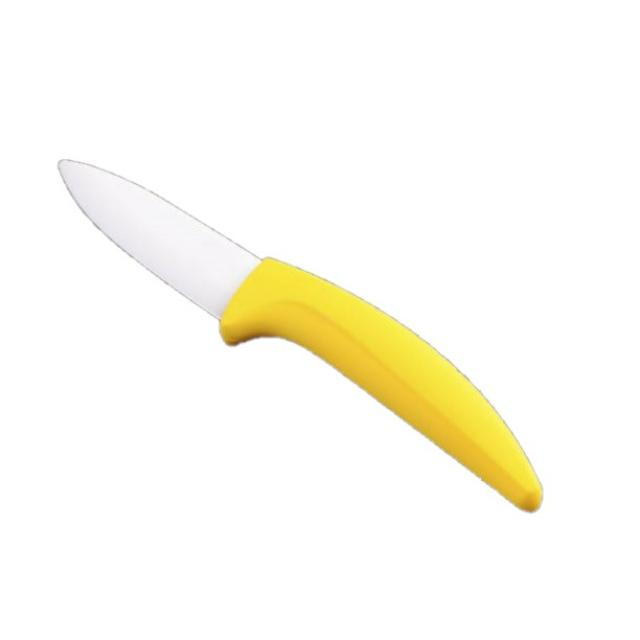knife: (53, 149, 557, 520)
